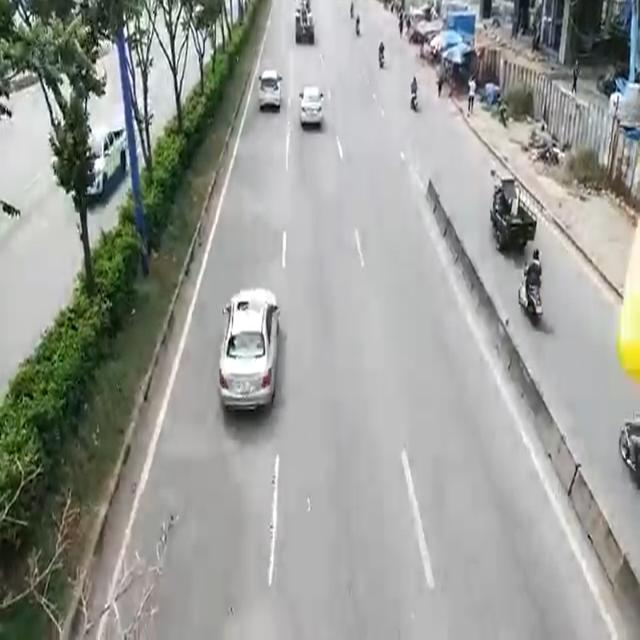car: (221, 288, 279, 422), (260, 65, 280, 111), (299, 87, 322, 127)
